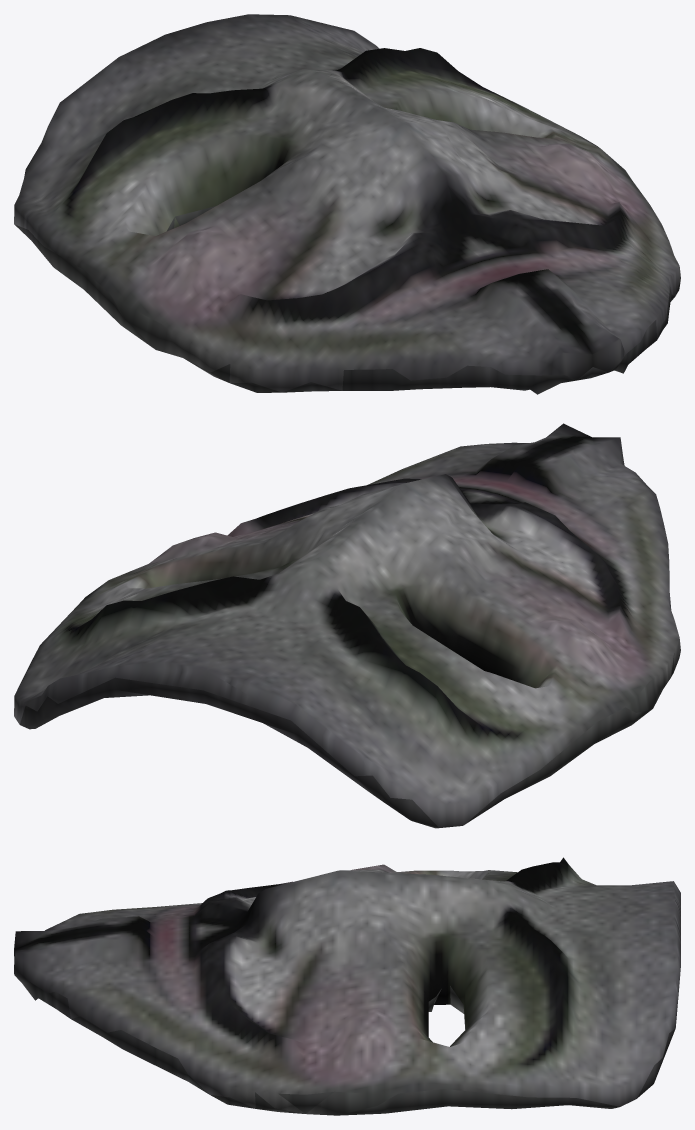
The model's file is mask_1.obj.
3 views of the same model, one above another, from view 1: azimuth 30°, elevation 25°; view 2: azimuth 150°, elevation 25°; view 3: azimuth 270°, elevation 25° (orthographic). The views are drawn at different scales.
Parts seen in each view (by area): view 1: mask_1; view 2: mask_1; view 3: mask_1.
Boxes of the visible parts, <box> form: mask_1: <box>14,14,680,394</box>; mask_1: <box>14,423,680,828</box>; mask_1: <box>14,857,680,1115</box>.
Size of the model in its own units: 0.2319 by 0.0743 by 0.3044.
